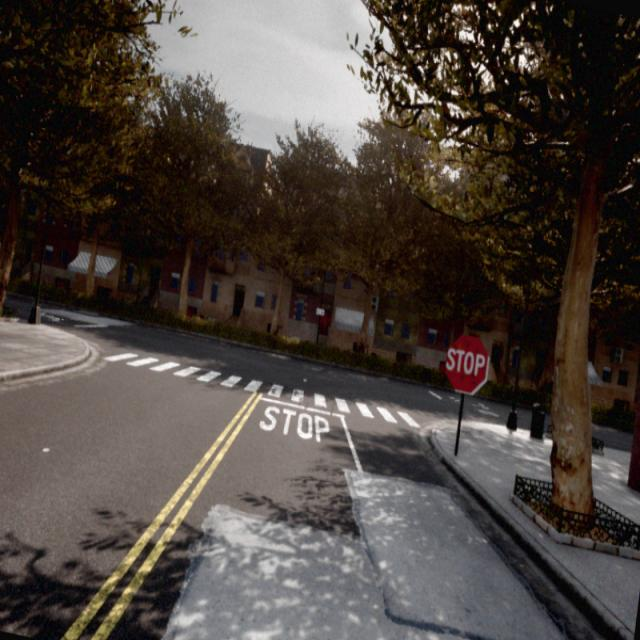stop sign: (442, 332, 490, 397), (445, 346, 486, 376)
